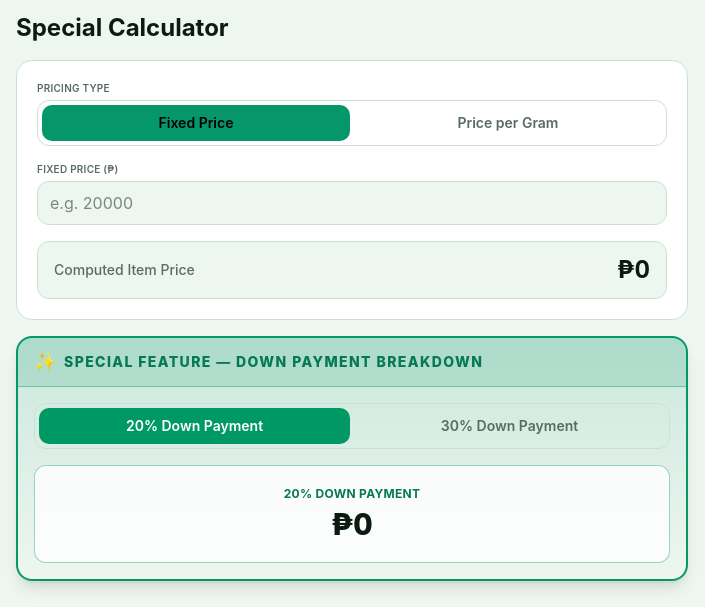
Test: Special Calculator — Down Payment Breakdown (single-select) › PRICE PER GRAM: item price and DP compute correctly
Step 1. Click the button with test id "calc-type-per_gram" → (508, 123), box [354,105,662,141]
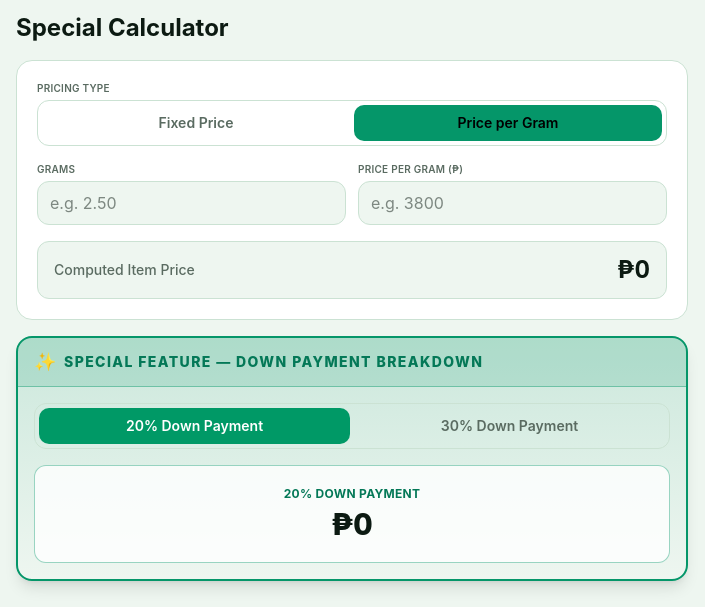
Step 2. Type "2.5" into the field with test id "calc-grams" → (192, 203), box [37,181,346,225]
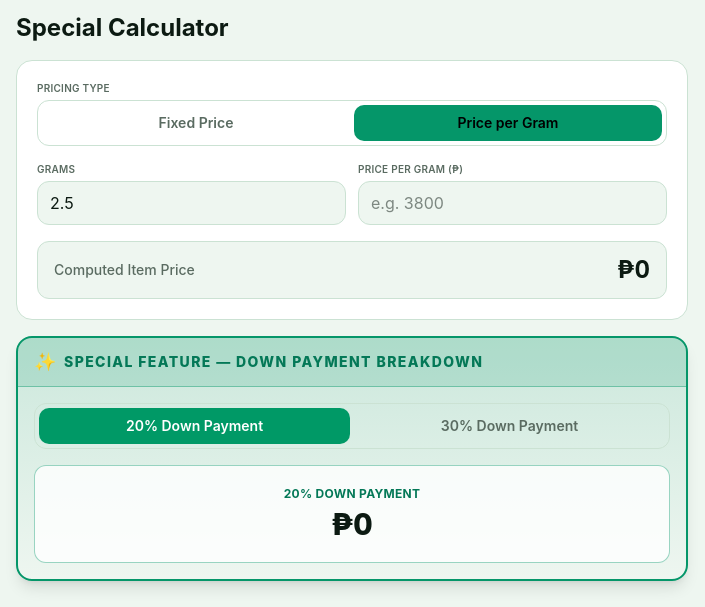
Step 3. Type "4000" into the field with test id "calc-price-per-gram" → (512, 203), box [358,181,667,225]
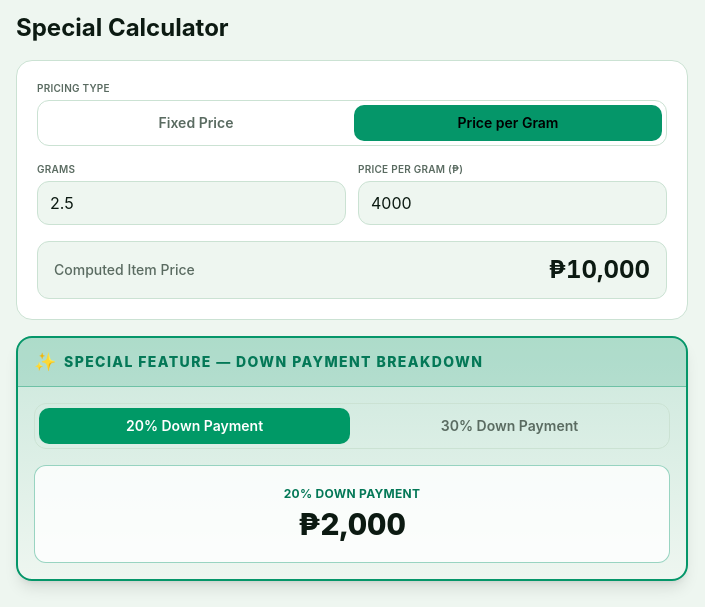
Check: the text with test id "calc-item-price" reads "₱10,000", box [549,255,650,284]
Check: the text with test id "calc-down-20" reads "₱2,000", box [298,506,406,542]
Step 4. Click the button with test id "calc-dp-toggle-30" → (510, 426), box [354,408,665,444]
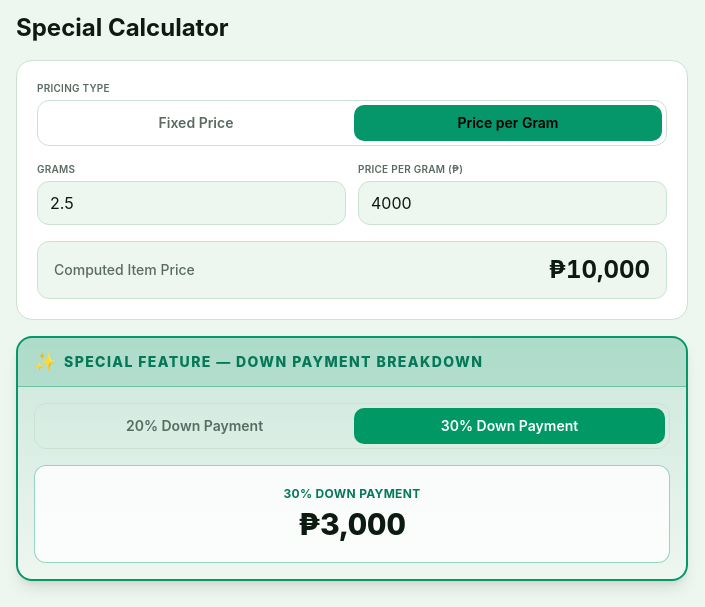
Check: the text with test id "calc-down-30" reads "₱3,000", box [298,506,406,542]
